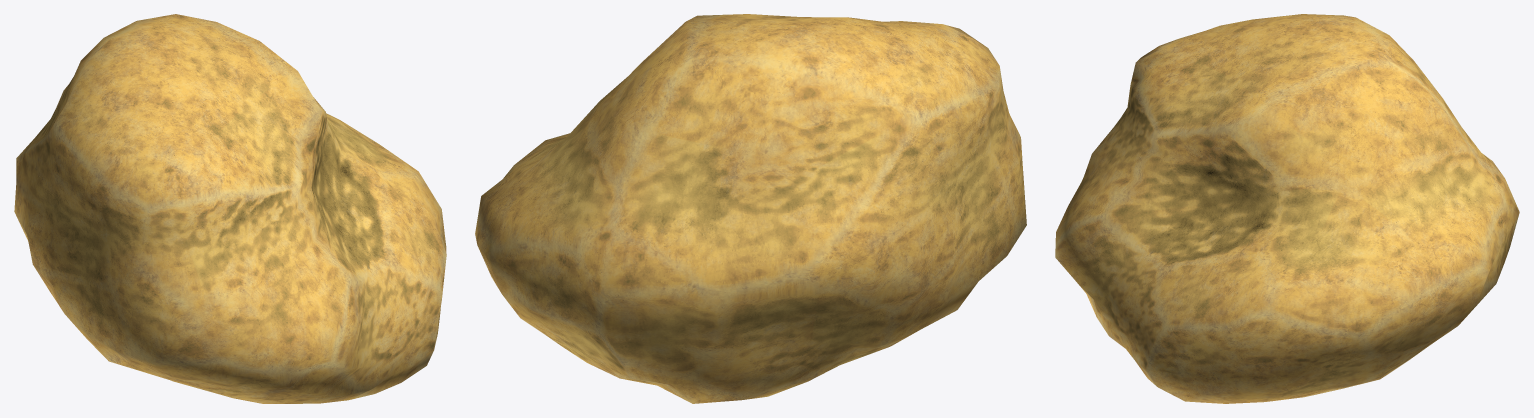
Rendered from gold_nugget.glb.
3 renders of one model, left to right at view 1: azimuth 30°, elevation 25°; view 2: azimuth 150°, elevation 25°; view 3: azimuth 270°, elevation 25°, orthographic. The views are drawn at different scales.
Visible parts, largest first — view 1: GoldNugget; view 2: GoldNugget; view 3: GoldNugget.
Boxes of the visible parts, left/top/right/bottom form: GoldNugget: left=14, top=14, right=446, bottom=403; GoldNugget: left=475, top=14, right=1026, bottom=403; GoldNugget: left=1055, top=14, right=1519, bottom=403.
Bounding box in the file's own units: 0.1195 × 0.0984 × 0.1378.
Materials: 1 (1 with a texture image).
